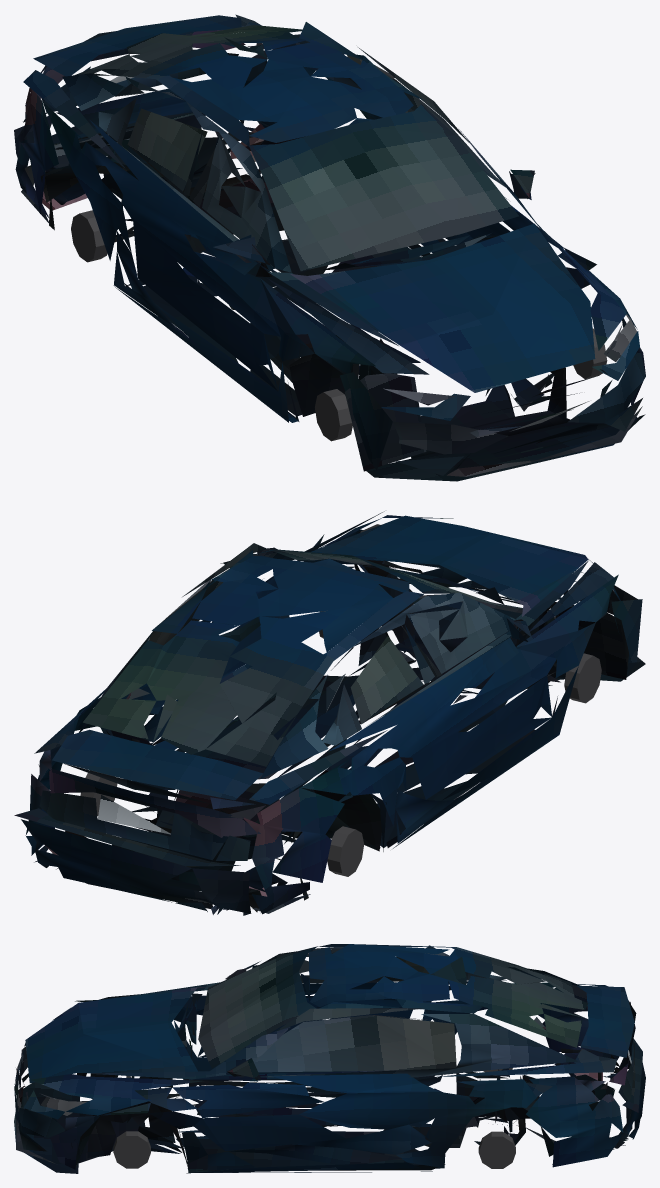
Rendered from limousine_f.glb.
3 views of the same model, one above another, from view 1: azimuth 30°, elevation 25°; view 2: azimuth 150°, elevation 25°; view 3: azimuth 270°, elevation 25° (orthographic). The views are drawn at different scales.
Visible parts, largest first — view 1: karosserie, rad_hl; view 2: karosserie, rad_hl; view 3: karosserie, rad_hl.
Boxes of the visible parts, x1=… form: karosserie: x1=14, y1=14, x2=645, y2=481; rad_hl: x1=71, y1=210, x2=607, y2=441; karosserie: x1=14, y1=511, x2=645, y2=915; rad_hl: x1=80, y1=610, x2=601, y2=876; karosserie: x1=14, y1=944, x2=645, y2=1173; rad_hl: x1=113, y1=1068, x2=515, y2=1168.
Bounding box in the file's own units: 2.13 × 1.43 × 4.84.
Materials: 2 (1 with a texture image).
